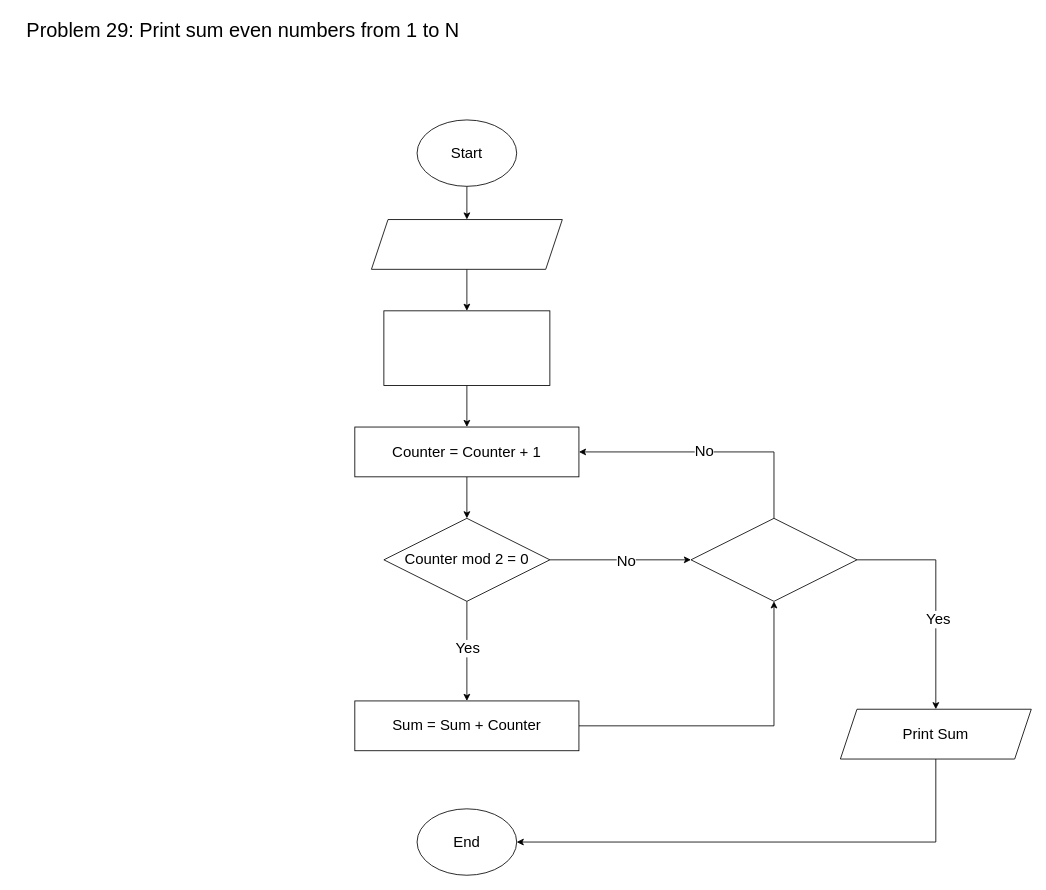
Image size: 1046x890. Some labels were removed from this diagram. Here are the shapes that lost their labels. From the top down, the centre of each, then its label:
the point at 466,244: Read N
the point at 466,348: Counter = 0 Sum = 0
the point at 773,559: Counter = N
